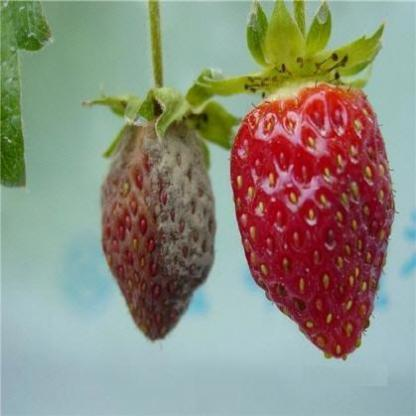Strawberry_Gray_Mold: (99, 116, 217, 342)
